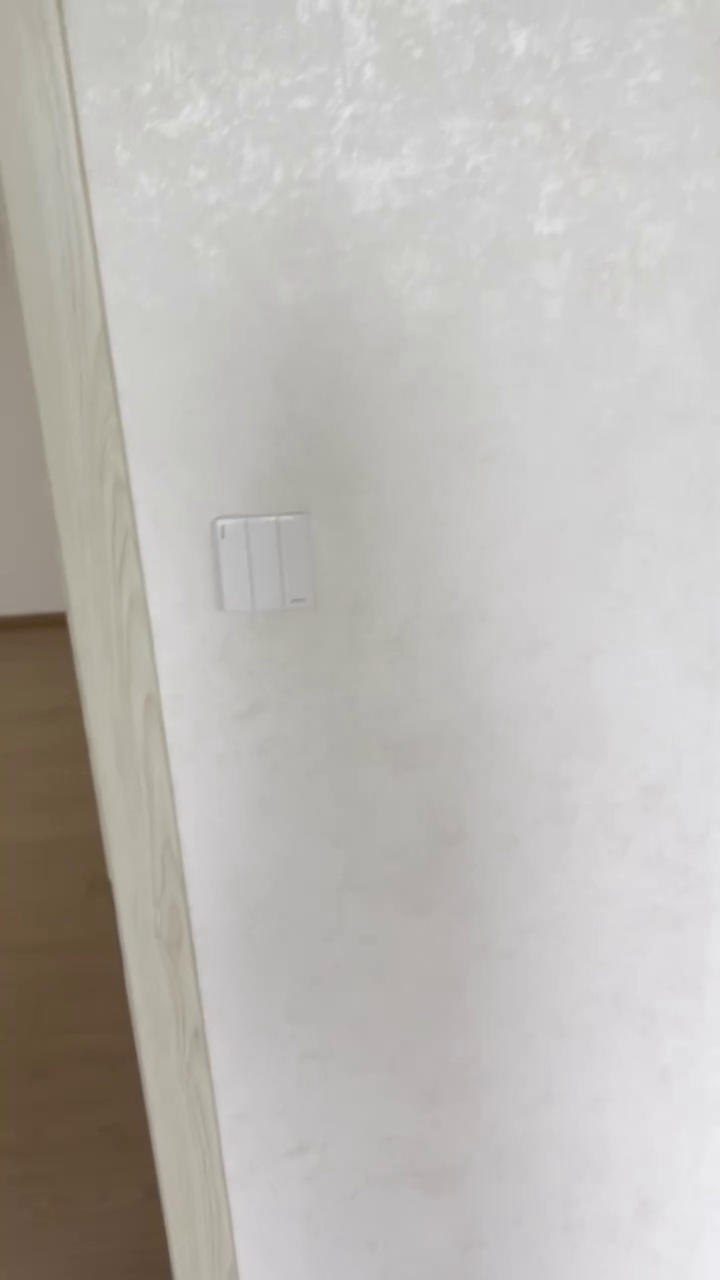button: (208, 507, 325, 618)
